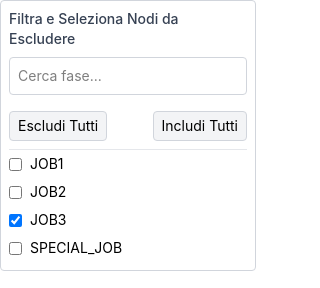
Scenario: ExclusionSelector › filters nodes based on filter text
Filter for "SPECIAL"
Type "SPECIAL" into the field labelled "Filtra e Seleziona Nodi da Escludere". click: (128, 76)
box: [9,57,247,95]
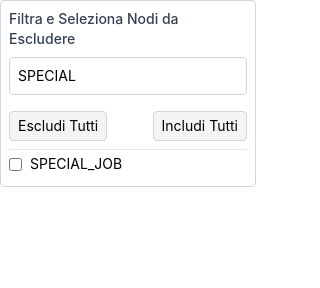
Expected: the label labelled "JOB1" is gone
Expected: the label labelled "JOB2" is gone
Expected: the label labelled "JOB3" is gone
Clear filter
Clear the field labelled "Filtra e Seleziona Nodi da Escludere". click: (128, 76)
box: [9,57,247,95]
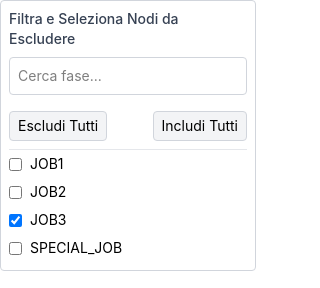
Expected: the checkbox labelled "JOB1" is shown, [9,158,22,170]
Expected: the checkbox labelled "JOB2" is shown, [9,186,22,198]
Expected: the checkbox labelled "JOB3" is shown, [9,214,22,226]
